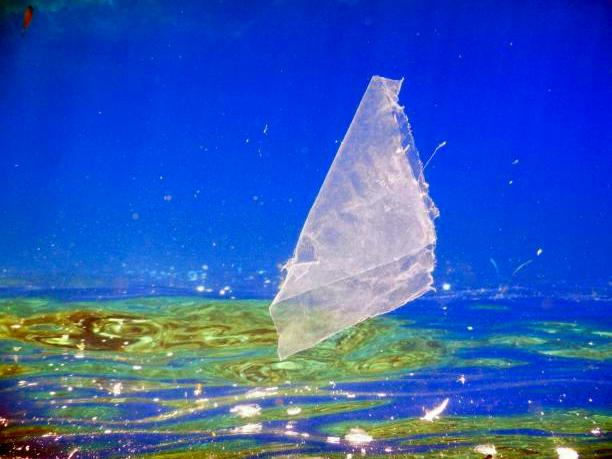Trash: (262, 70, 445, 355)
